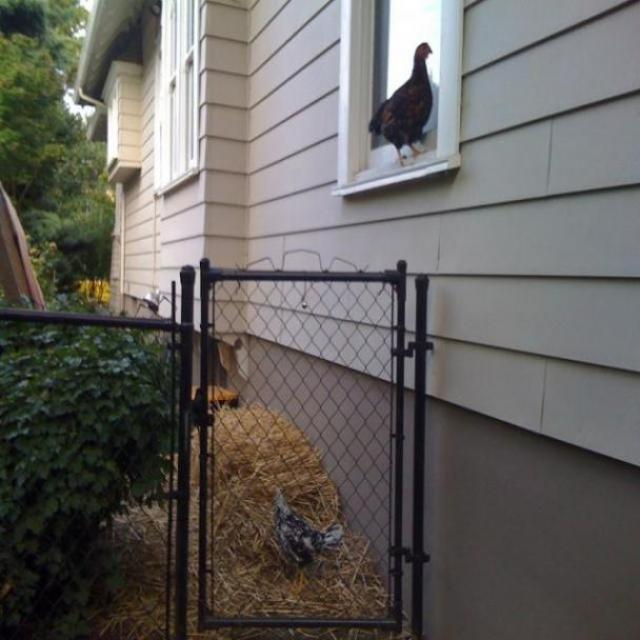Chicken: (260, 477, 351, 615), (374, 38, 437, 151)
